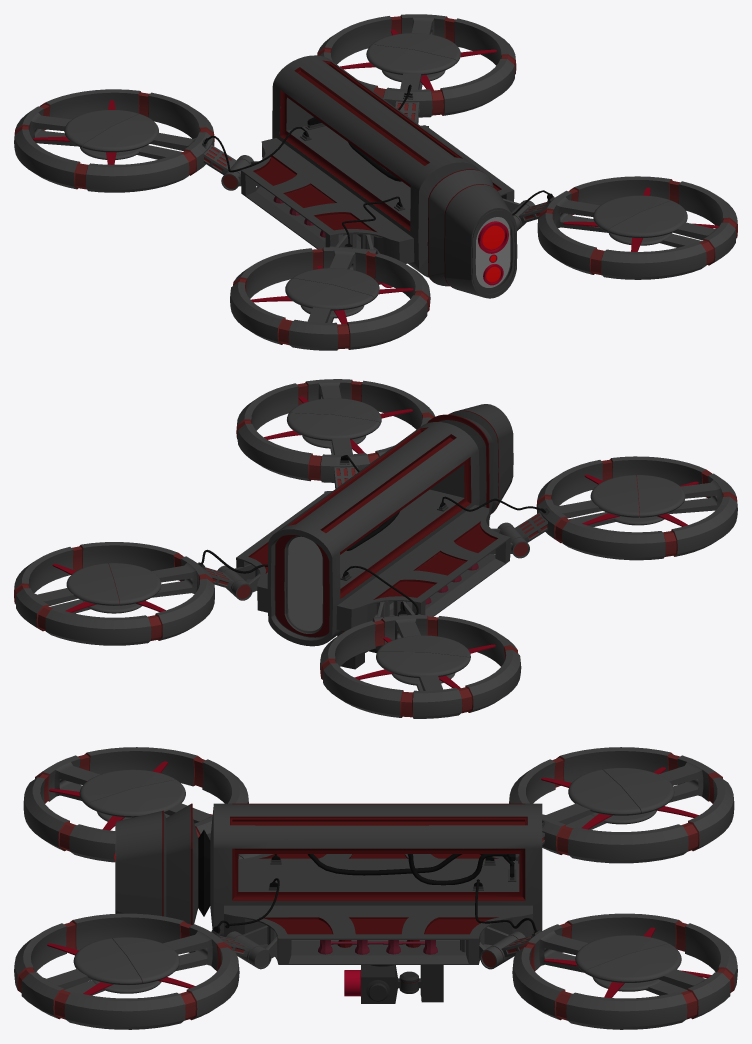
Rendered from drone_customized.glb.
The picture shows the model from 3 angles, top to bottom: view 1: azimuth 30°, elevation 25°; view 2: azimuth 150°, elevation 25°; view 3: azimuth 270°, elevation 25°; orthographic projection. The views are drawn at different scales.
Parts seen in each view (by area): view 1: pCylinder40; view 2: pCylinder40; view 3: pCylinder40.
Boxes of the visible parts, <box> form: pCylinder40: <box>14,14,737,350</box>; pCylinder40: <box>14,379,737,718</box>; pCylinder40: <box>14,747,737,1029</box>.
Size of the model in its own units: 83.31 by 28.13 by 97.4.
